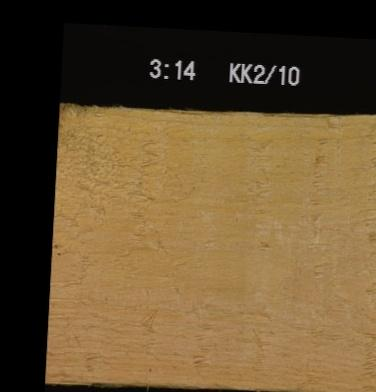small_knot: (51, 242, 68, 256)
